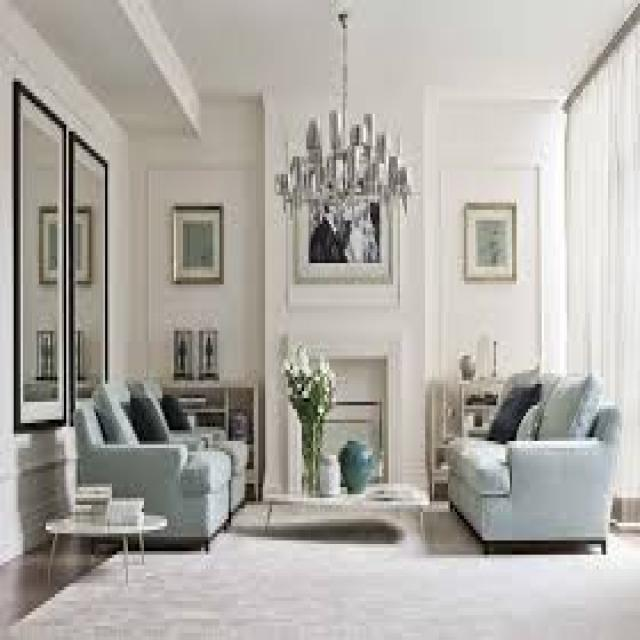Lamp: (273, 84, 417, 228)
Sofa: (439, 359, 619, 559), (85, 395, 252, 545)
Table: (265, 448, 435, 562), (27, 484, 166, 581)
